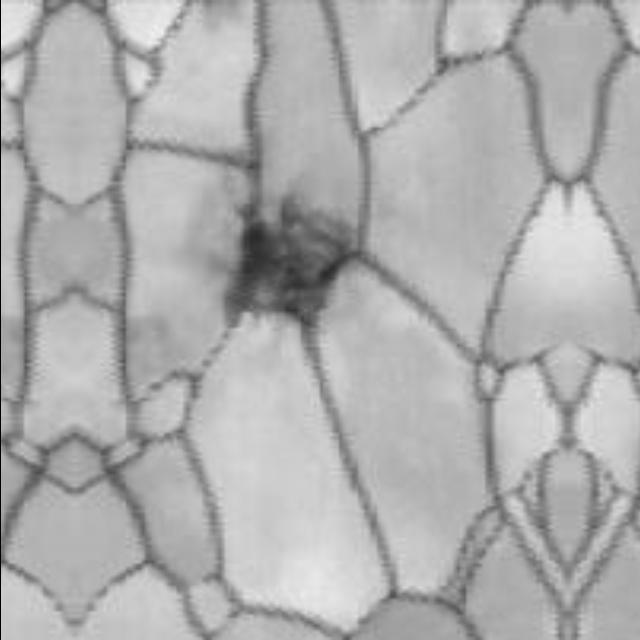good_void: (208, 188, 366, 351)
